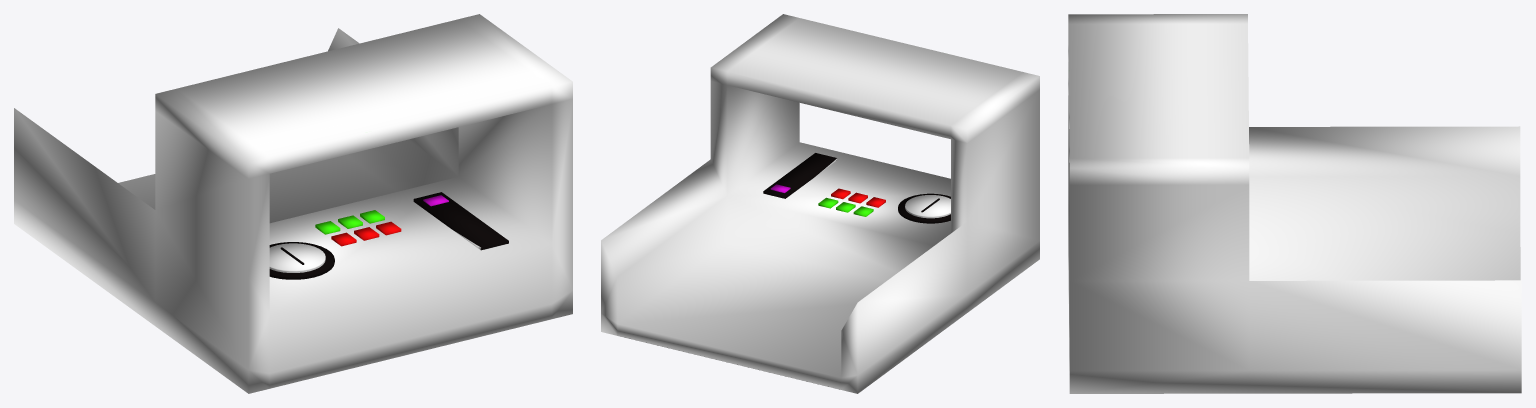
File: brod.obj
3 views of the same model, side by side, from view 1: azimuth 30°, elevation 25°; view 2: azimuth 150°, elevation 25°; view 3: azimuth 270°, elevation 25° (orthographic). The views are drawn at different scales.
Visible parts, largest first — view 1: Brod Mesh, Box007 Mesh, Cylinder002 Mesh, Cylinder001 Mesh; view 2: Brod Mesh, Box007 Mesh, Cylinder002 Mesh, Cylinder001 Mesh; view 3: Brod Mesh.
Boxes of the visible parts, x1,y1,x2,y2 form: Brod Mesh: [14, 14, 572, 393]; Box007 Mesh: [413, 192, 508, 250]; Cylinder002 Mesh: [269, 243, 325, 272]; Cylinder001 Mesh: [269, 242, 334, 279]; Brod Mesh: [601, 14, 1039, 393]; Box007 Mesh: [763, 153, 837, 198]; Cylinder002 Mesh: [905, 195, 950, 218]; Cylinder001 Mesh: [898, 193, 950, 223]; Brod Mesh: [1068, 14, 1521, 393].
Size of the model in its own units: 20.09 by 13.67 by 24.89.
Materials: 12 (12 with a texture image).
